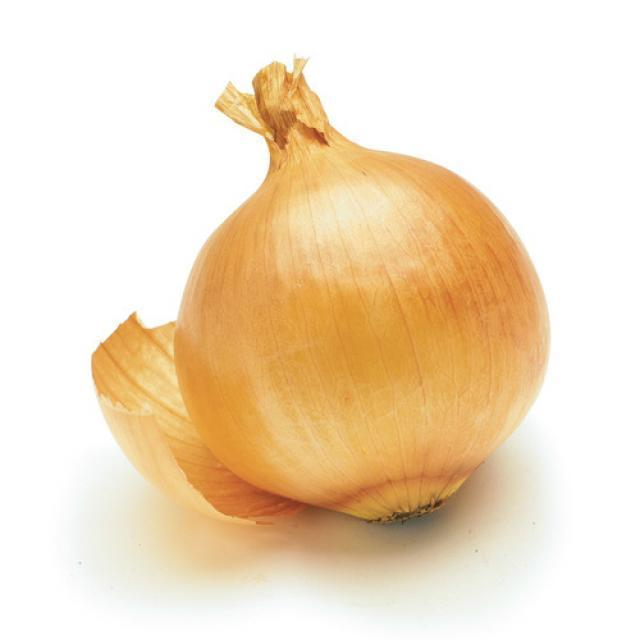Onion: (178, 54, 551, 522), (89, 310, 320, 528)
